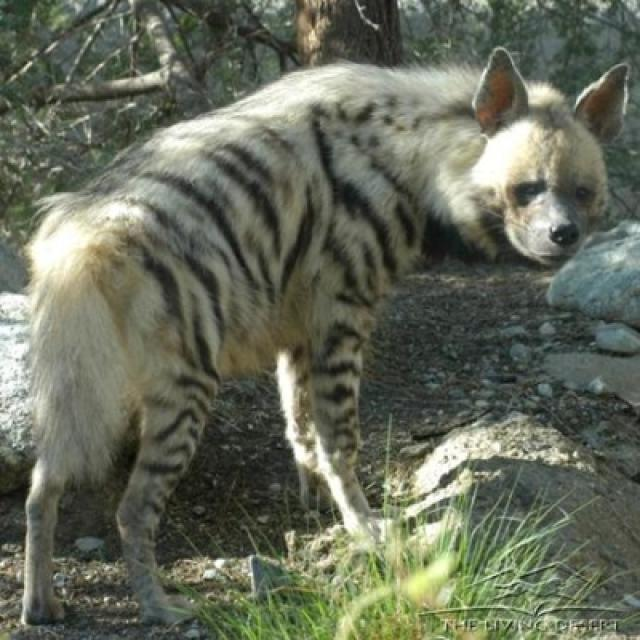hyena: (22, 48, 627, 619)
